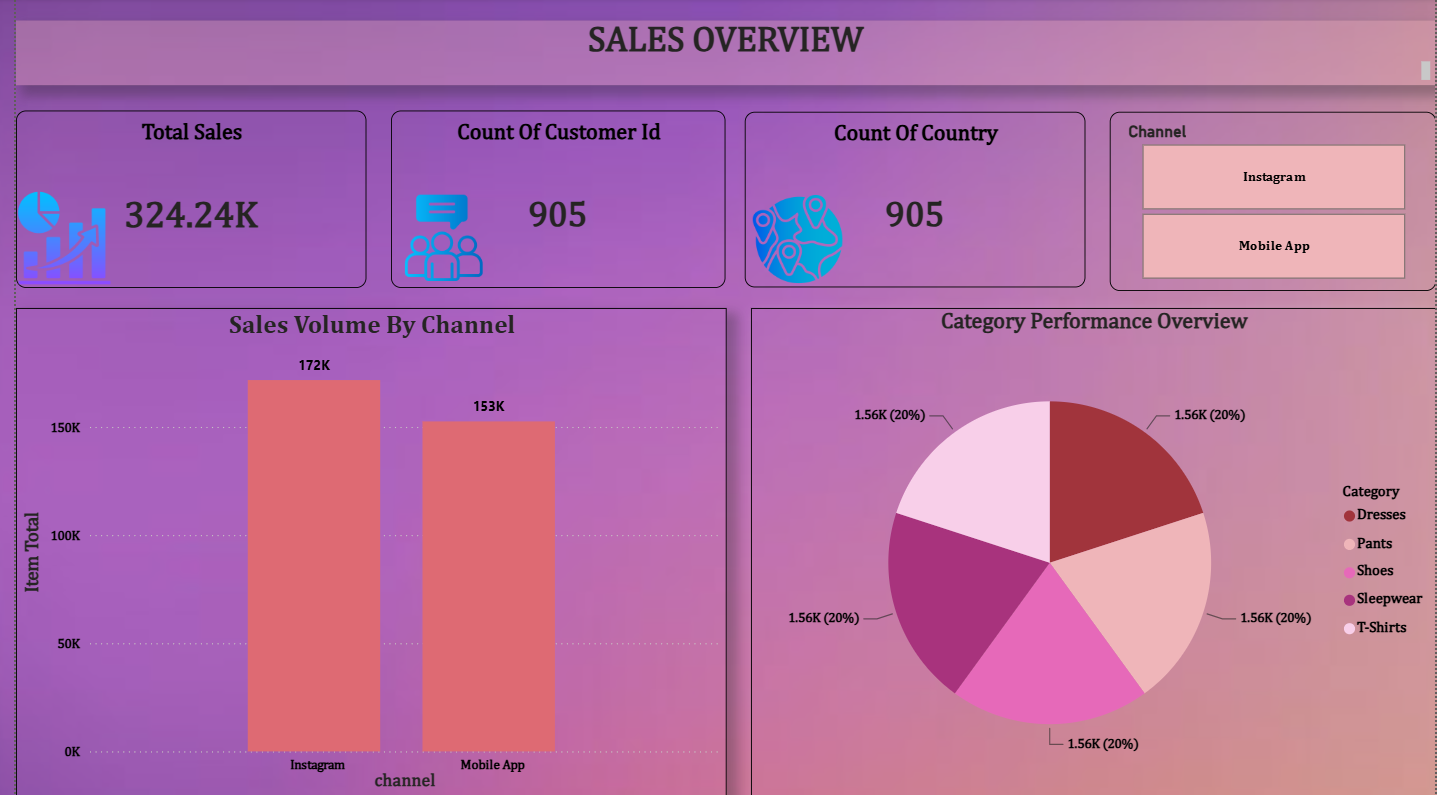

The page's visual inventory and layout, read from the dashboard file:
{"tool":"powerbi","page":{"name":"sales","canvas":[1280,720],"ordinal":4},"visuals":[{"type":"textbox","title":"SALES OVERVIEW","box":[0,20,1280,58.6],"z":0},{"type":"card","fields":{"Values":["Max(store sales.country)"]},"box":[657.1,102.9,307.1,158.6],"z":1000},{"type":"card","fields":{"Values":["store sales.total sales"]},"box":[0,101.4,315.7,160],"z":2000},{"type":"card","fields":{"Values":["CountNonNull(store sales.customer_id)"]},"box":[338.6,101.4,301.4,160],"z":3000},{"type":"slicer","fields":{"Values":["sales items.channel"]},"box":[985.7,102.9,294.3,161.4],"z":4000},{"type":"map","fields":{"Category":["customers.country"]},"box":[0,280,511.4,440],"z":5000},{"type":"columnChart","title":"Sales Volume By Channel","fields":{"Y":["Sum(sales items.item_total)"],"Category":["sales items.channel"]},"box":[528.6,280,394.3,440],"z":6000},{"type":"pieChart","title":"Category Performance Overview","fields":{"Category":["products.Category"],"Y":["Count(sales items.item_total)"]},"box":[937.1,280,342.9,440],"z":7000}]}

Visuals, with their boxes in screenshot pixels (x1, y1, x2, y2), scaled from the page's 1280x720 canvas onto the 1437x795 screenshot:
"SALES OVERVIEW" textbox: box=[0, 22, 1436, 87]
card - Max(store sales.country): box=[738, 114, 1082, 289]
card - store sales.total sales: box=[0, 112, 354, 289]
card - CountNonNull(store sales.customer_id): box=[380, 112, 718, 289]
slicer - sales items.channel: box=[1107, 114, 1436, 292]
map - customers.country: box=[0, 309, 574, 794]
"Sales Volume By Channel" columnChart: box=[593, 309, 1036, 794]
"Category Performance Overview" pieChart: box=[1052, 309, 1436, 794]
